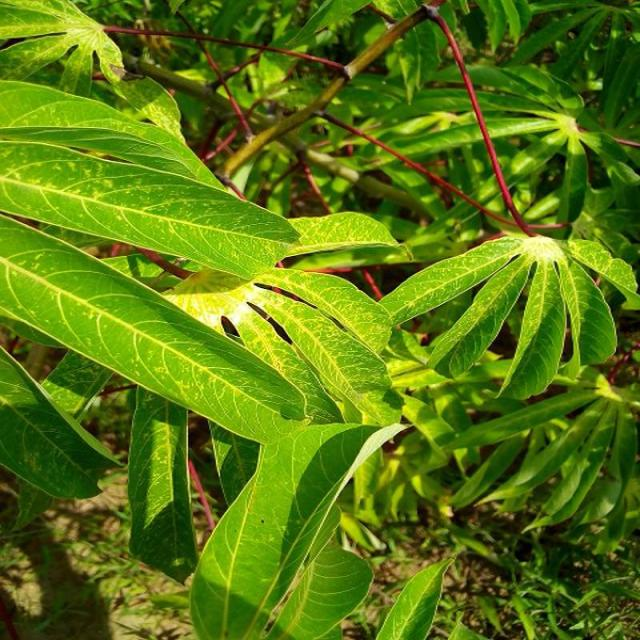cassava leaf: (2, 1, 638, 638), (2, 213, 310, 446), (2, 78, 302, 280), (190, 418, 407, 638), (380, 230, 638, 401)
